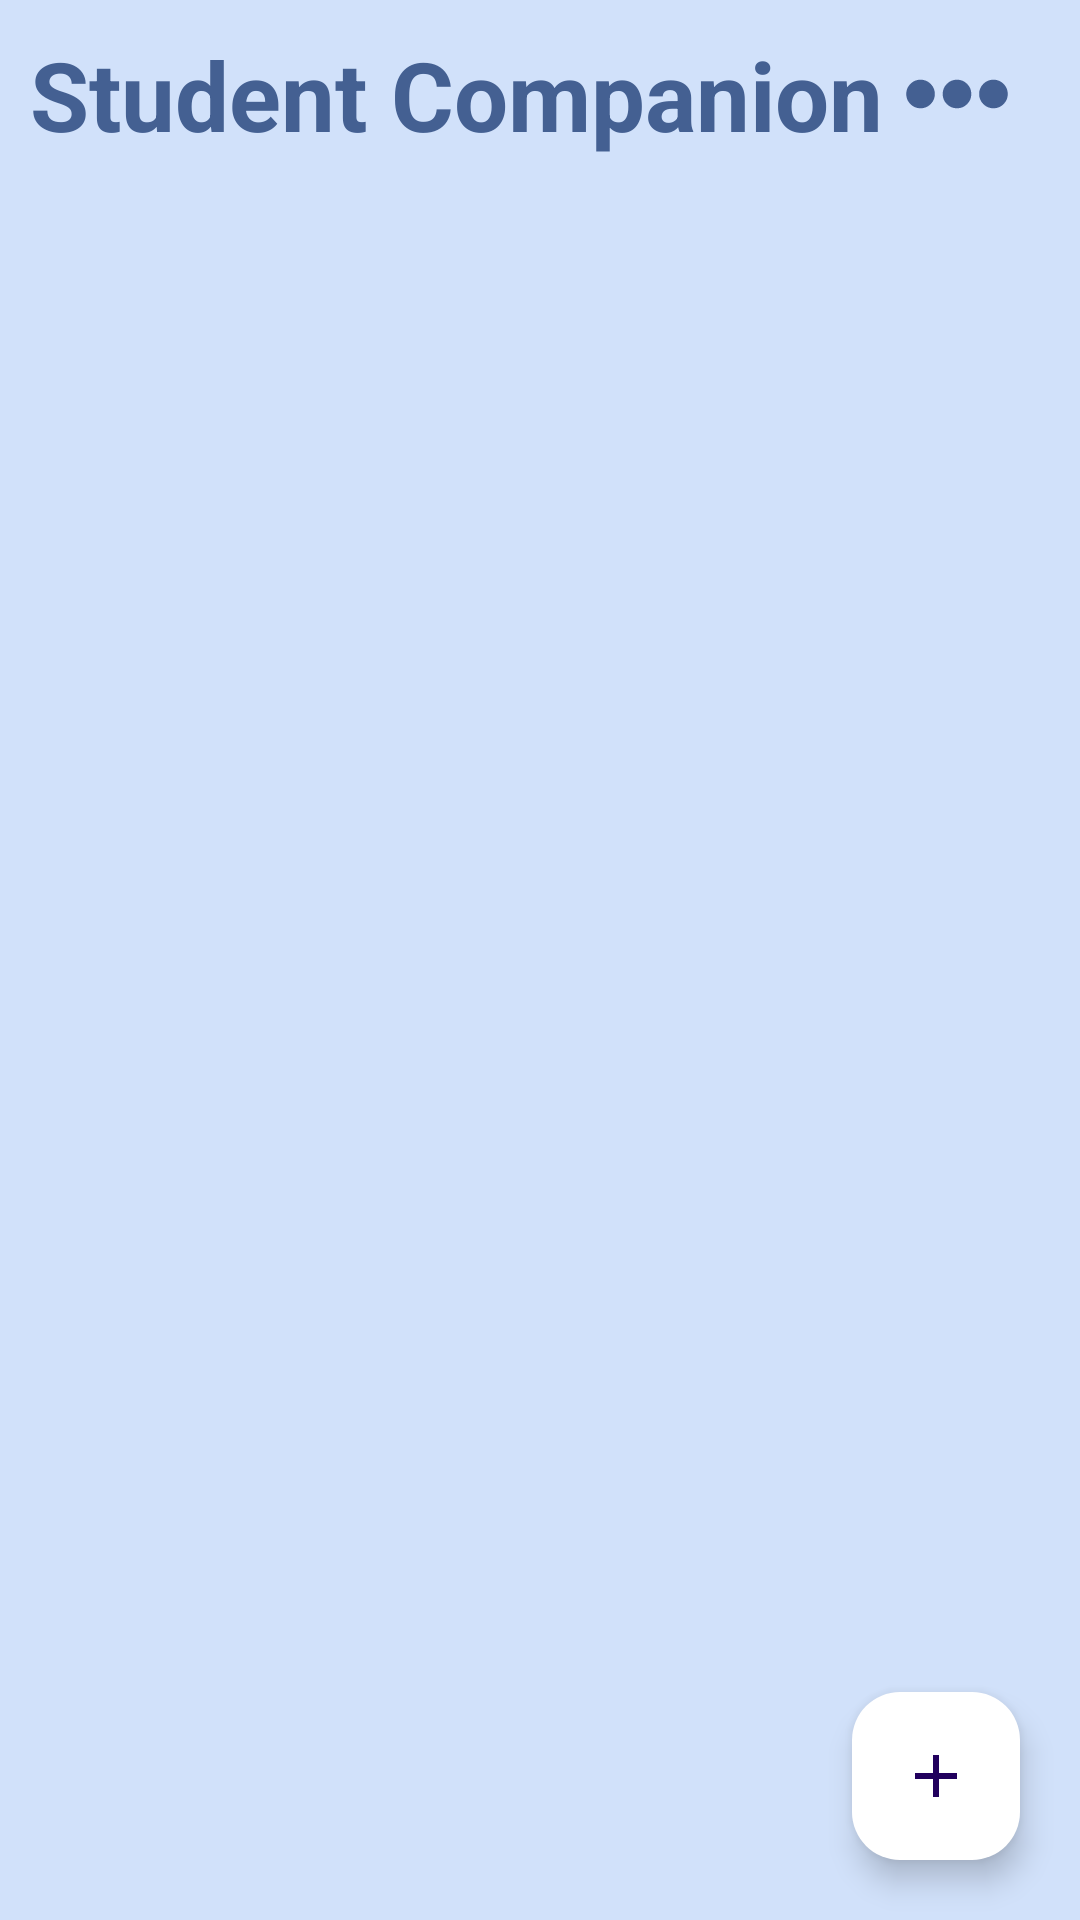

Where icons sit on this 1080*1920 app screen, as (x1=x1, y1=y1, x2=x2, y2=y2):
add: (x1=852, y1=1692, x2=1020, y2=1860)
meatballs: (x1=906, y1=79, x2=1008, y2=109)
